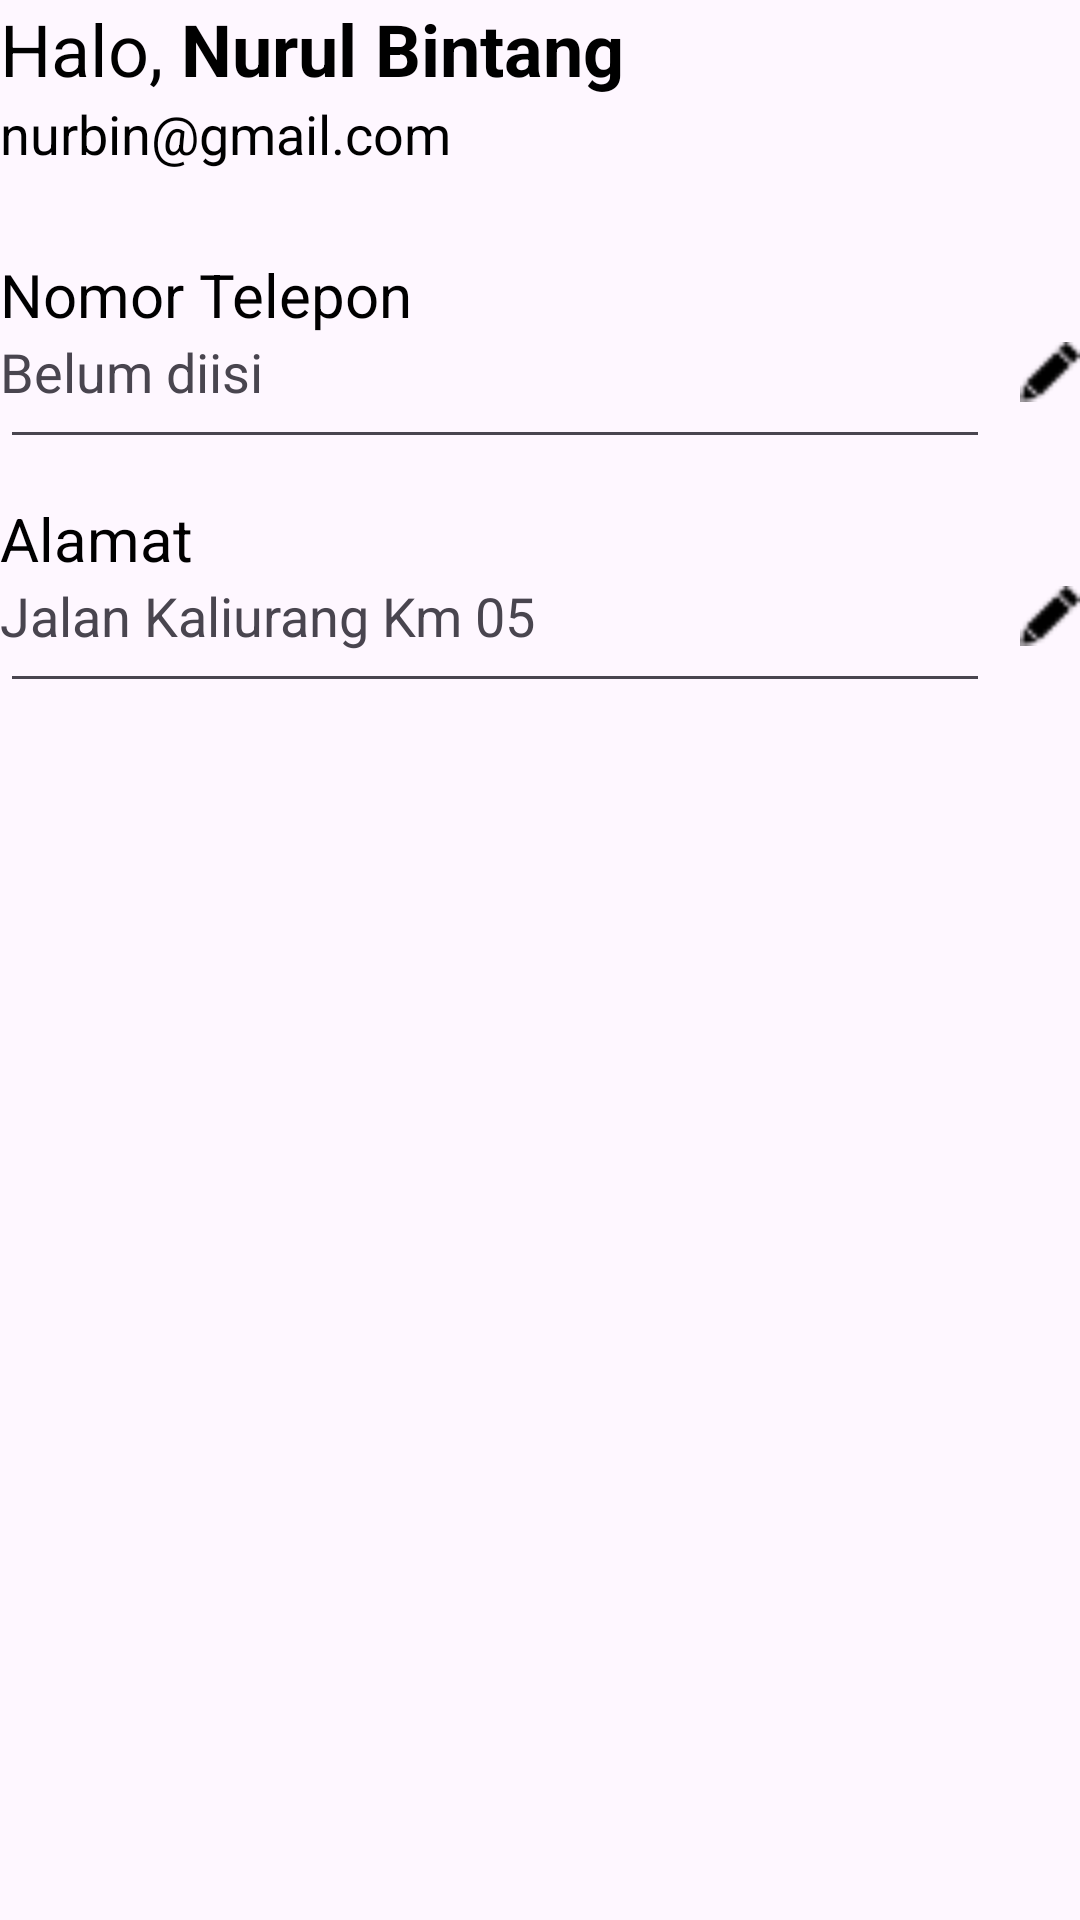

Where icons sit on this 1080px×1920px app screen, as (x1, y1, x2, y2):
edit: (1020, 342, 1080, 402), (1020, 586, 1080, 646)
